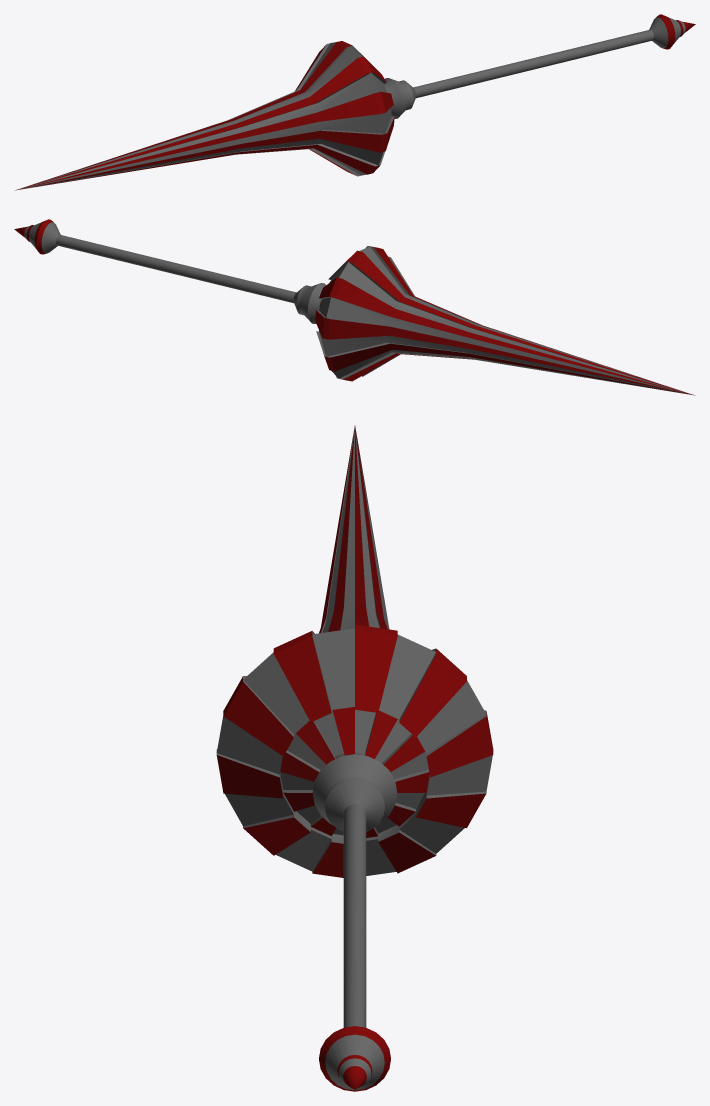
File: lance_raw.glb
3 renders of one model, top to bottom at view 1: azimuth 30°, elevation 25°; view 2: azimuth 150°, elevation 25°; view 3: azimuth 270°, elevation 25°, orthographic. The views are drawn at different scales.
Visible parts, largest first — view 1: lance_Lance_LP_anisotropic1_0; view 2: lance_Lance_LP_anisotropic1_0; view 3: lance_Lance_LP_anisotropic1_0.
Part boxes in pixels (x1,y1,x2,y2): lance_Lance_LP_anisotropic1_0: [14, 14, 695, 190]; lance_Lance_LP_anisotropic1_0: [14, 219, 695, 395]; lance_Lance_LP_anisotropic1_0: [216, 425, 493, 1091].
Size of the model in its own units: 6.84 by 1.2 by 1.2.
